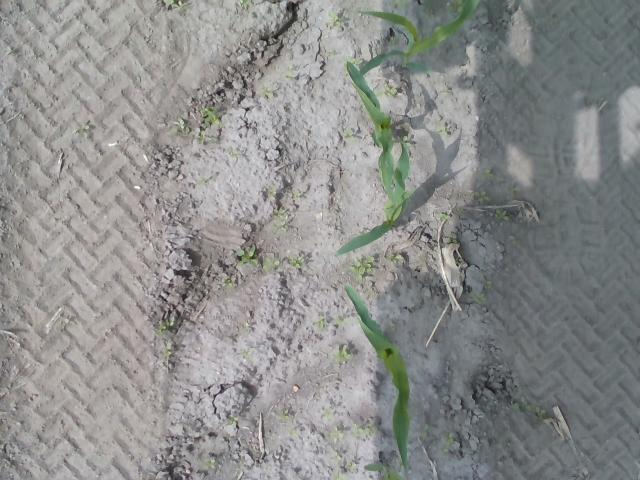Maize: (339, 280, 412, 472), (334, 82, 412, 256), (357, 0, 482, 64), (346, 57, 394, 149), (362, 450, 403, 480)
Weeds: (508, 382, 552, 426), (195, 107, 222, 144), (267, 187, 288, 233), (329, 450, 356, 480), (350, 254, 376, 282), (234, 244, 260, 268), (264, 257, 304, 272), (438, 430, 456, 457), (321, 10, 343, 30), (351, 424, 376, 440), (374, 82, 398, 98), (332, 344, 349, 364), (220, 272, 238, 290), (467, 291, 489, 305), (170, 118, 187, 135), (154, 318, 175, 331), (200, 456, 216, 472), (71, 125, 89, 139), (330, 428, 344, 444), (342, 130, 358, 144), (494, 208, 511, 221), (335, 316, 352, 328), (446, 0, 464, 11), (314, 315, 328, 329), (396, 134, 412, 146), (474, 191, 491, 202), (387, 252, 402, 264), (478, 168, 496, 178), (164, 0, 184, 9), (260, 83, 272, 98), (278, 408, 290, 422), (388, 0, 408, 8), (225, 412, 238, 424), (292, 190, 304, 202), (284, 64, 294, 78), (482, 279, 493, 290), (240, 349, 252, 359), (447, 233, 458, 243), (288, 427, 298, 438), (240, 0, 253, 8), (439, 210, 448, 221), (349, 57, 362, 64), (440, 126, 448, 136), (164, 348, 172, 358)
